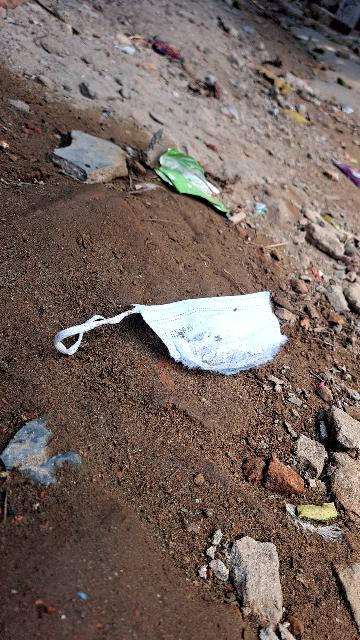mask: (122, 244, 300, 397)
